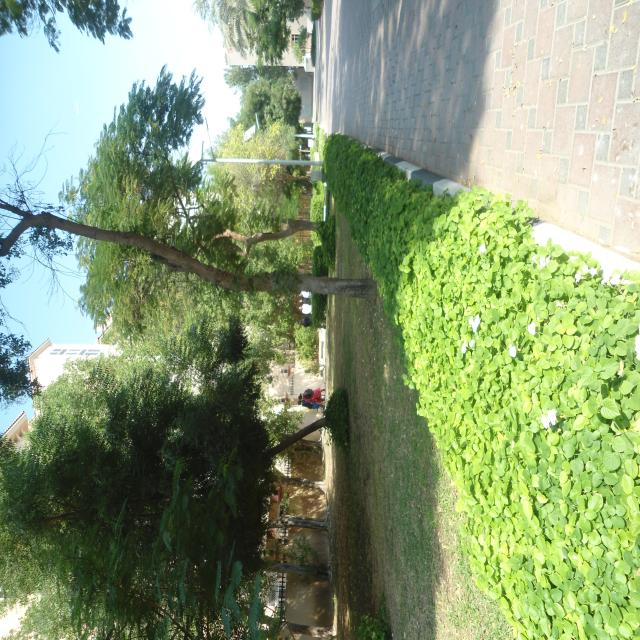bush: (325, 135, 640, 638)
path: (315, 0, 640, 260)
tree-chair-bench-table-wall: (0, 322, 274, 638), (64, 68, 305, 277), (79, 238, 295, 347), (199, 0, 302, 160)
